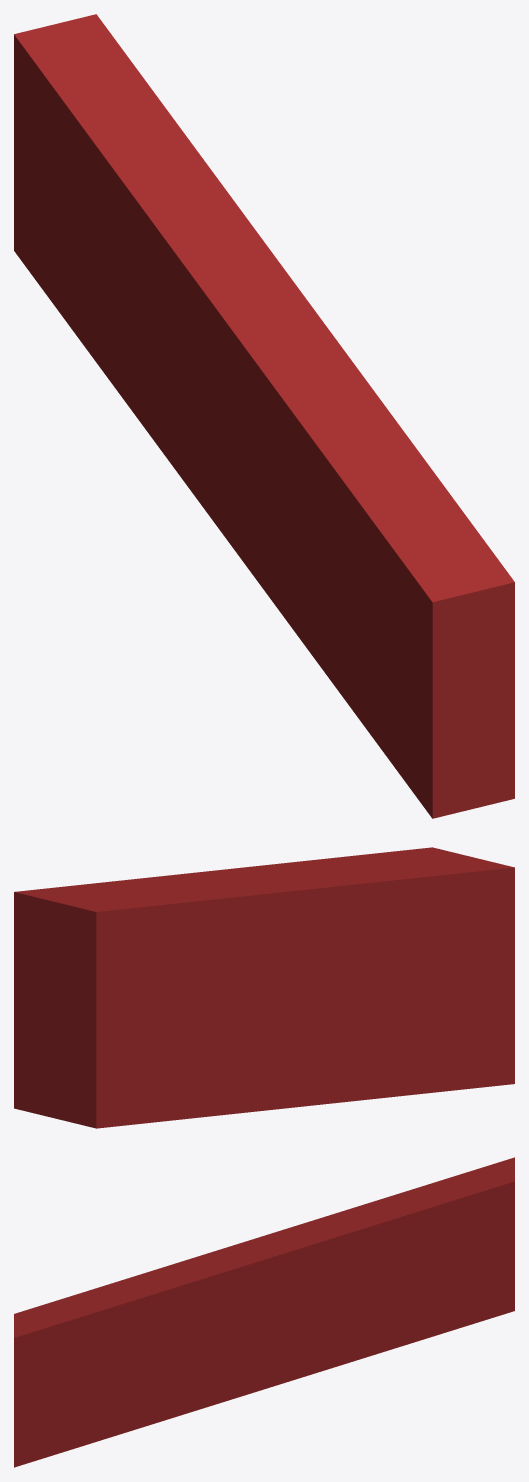
Rendered from Asian_Prop_Building_Modular_Roof_Rafter_Beam_02.FBX.
The picture shows the model from 3 angles, top to bottom: view 1: azimuth 30°, elevation 25°; view 2: azimuth 150°, elevation 25°; view 3: azimuth 270°, elevation 25°; orthographic projection. The views are drawn at different scales.
Visible parts, largest first — view 1: Asian_Prop_Building_Modular_Roof_Rafter_Beam_02; view 2: Asian_Prop_Building_Modular_Roof_Rafter_Beam_02; view 3: Asian_Prop_Building_Modular_Roof_Rafter_Beam_02.
Boxes of the visible parts, x1,y1,x2,y2 form: Asian_Prop_Building_Modular_Roof_Rafter_Beam_02: (14, 14, 514, 818); Asian_Prop_Building_Modular_Roof_Rafter_Beam_02: (14, 847, 514, 1128); Asian_Prop_Building_Modular_Roof_Rafter_Beam_02: (14, 1157, 514, 1467).
Size of the model in its own units: 147 by 815 by 1292.
